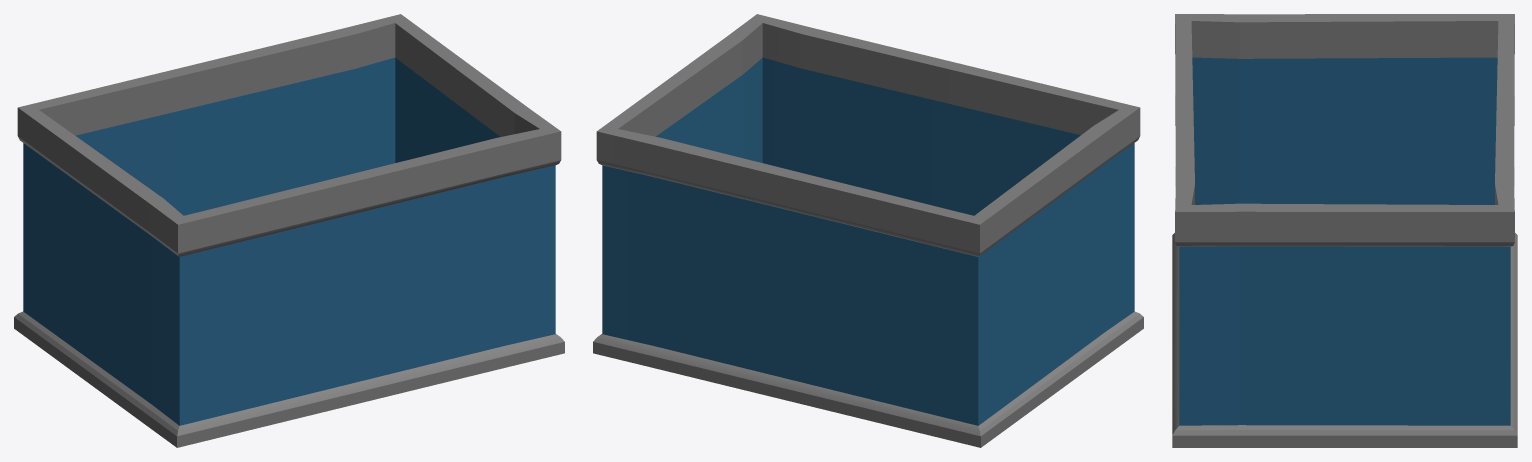
The model's file is Building1_Top.fbx.
3 views of the same model, side by side, from view 1: azimuth 30°, elevation 25°; view 2: azimuth 150°, elevation 25°; view 3: azimuth 270°, elevation 25° (orthographic). The views are drawn at different scales.
Visible parts, largest first — view 1: Building1_Top; view 2: Building1_Top; view 3: Building1_Top.
Boxes of the visible parts, x1,y1,x2,y2 form: Building1_Top: (14,14,564,447); Building1_Top: (593,14,1143,447); Building1_Top: (1172,14,1517,447).
Bounding box in the file's own units: 216 × 118 × 158.
